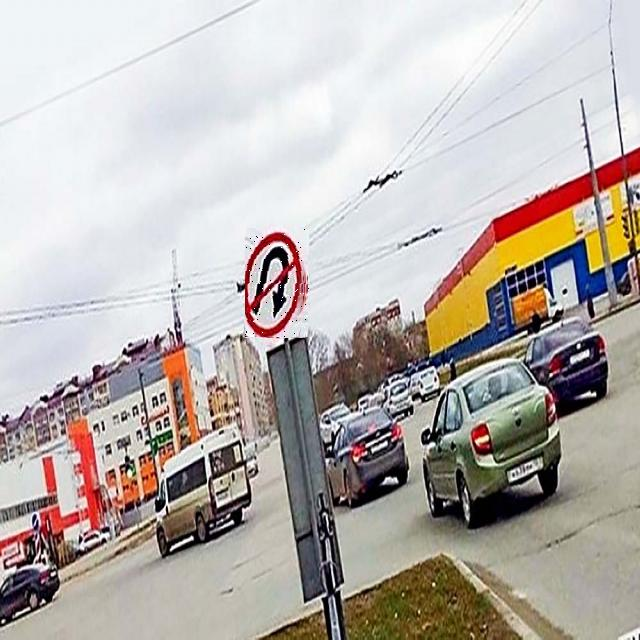no u turn: (245, 228, 309, 338)
